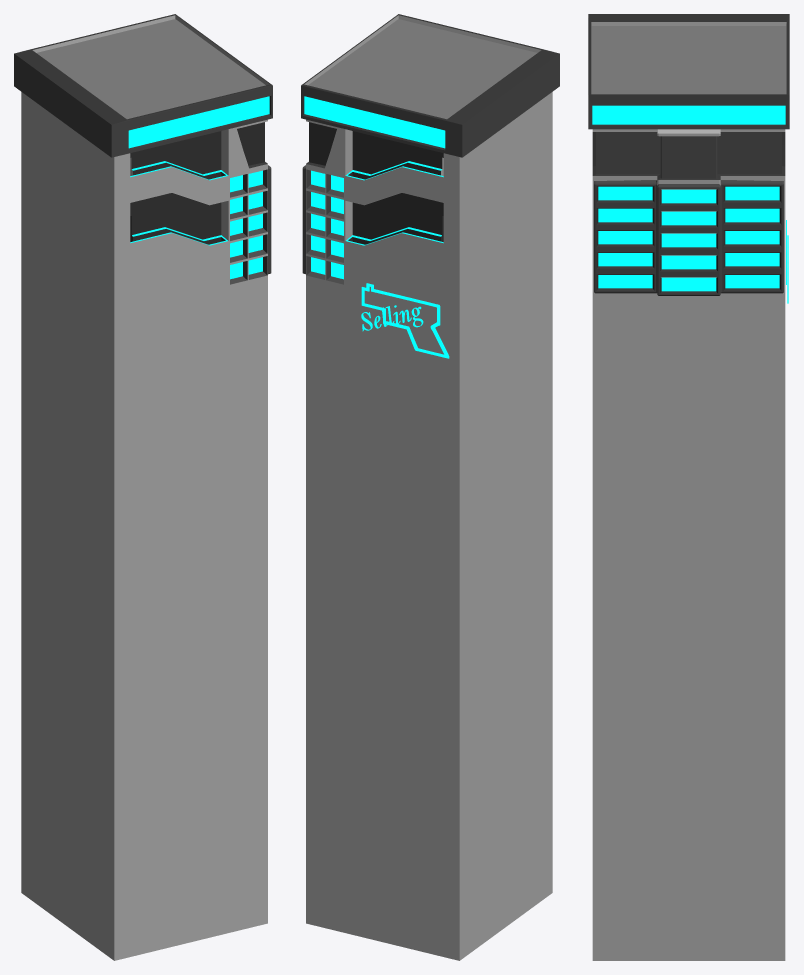
File: SM_Building_B.fbx
3 renders of one model, left to right at view 1: azimuth 30°, elevation 25°; view 2: azimuth 150°, elevation 25°; view 3: azimuth 270°, elevation 25°, orthographic. The views are drawn at different scales.
Visible parts, largest first — view 1: SM_Building_B; view 2: SM_Building_B; view 3: SM_Building_B.
Part boxes in pixels (left/top/right/bottom): SM_Building_B: left=14, top=14, right=272, bottom=960; SM_Building_B: left=301, top=14, right=559, bottom=960; SM_Building_B: left=588, top=14, right=789, bottom=960.
Bounding box in the file's own units: 200 × 950 × 200.
